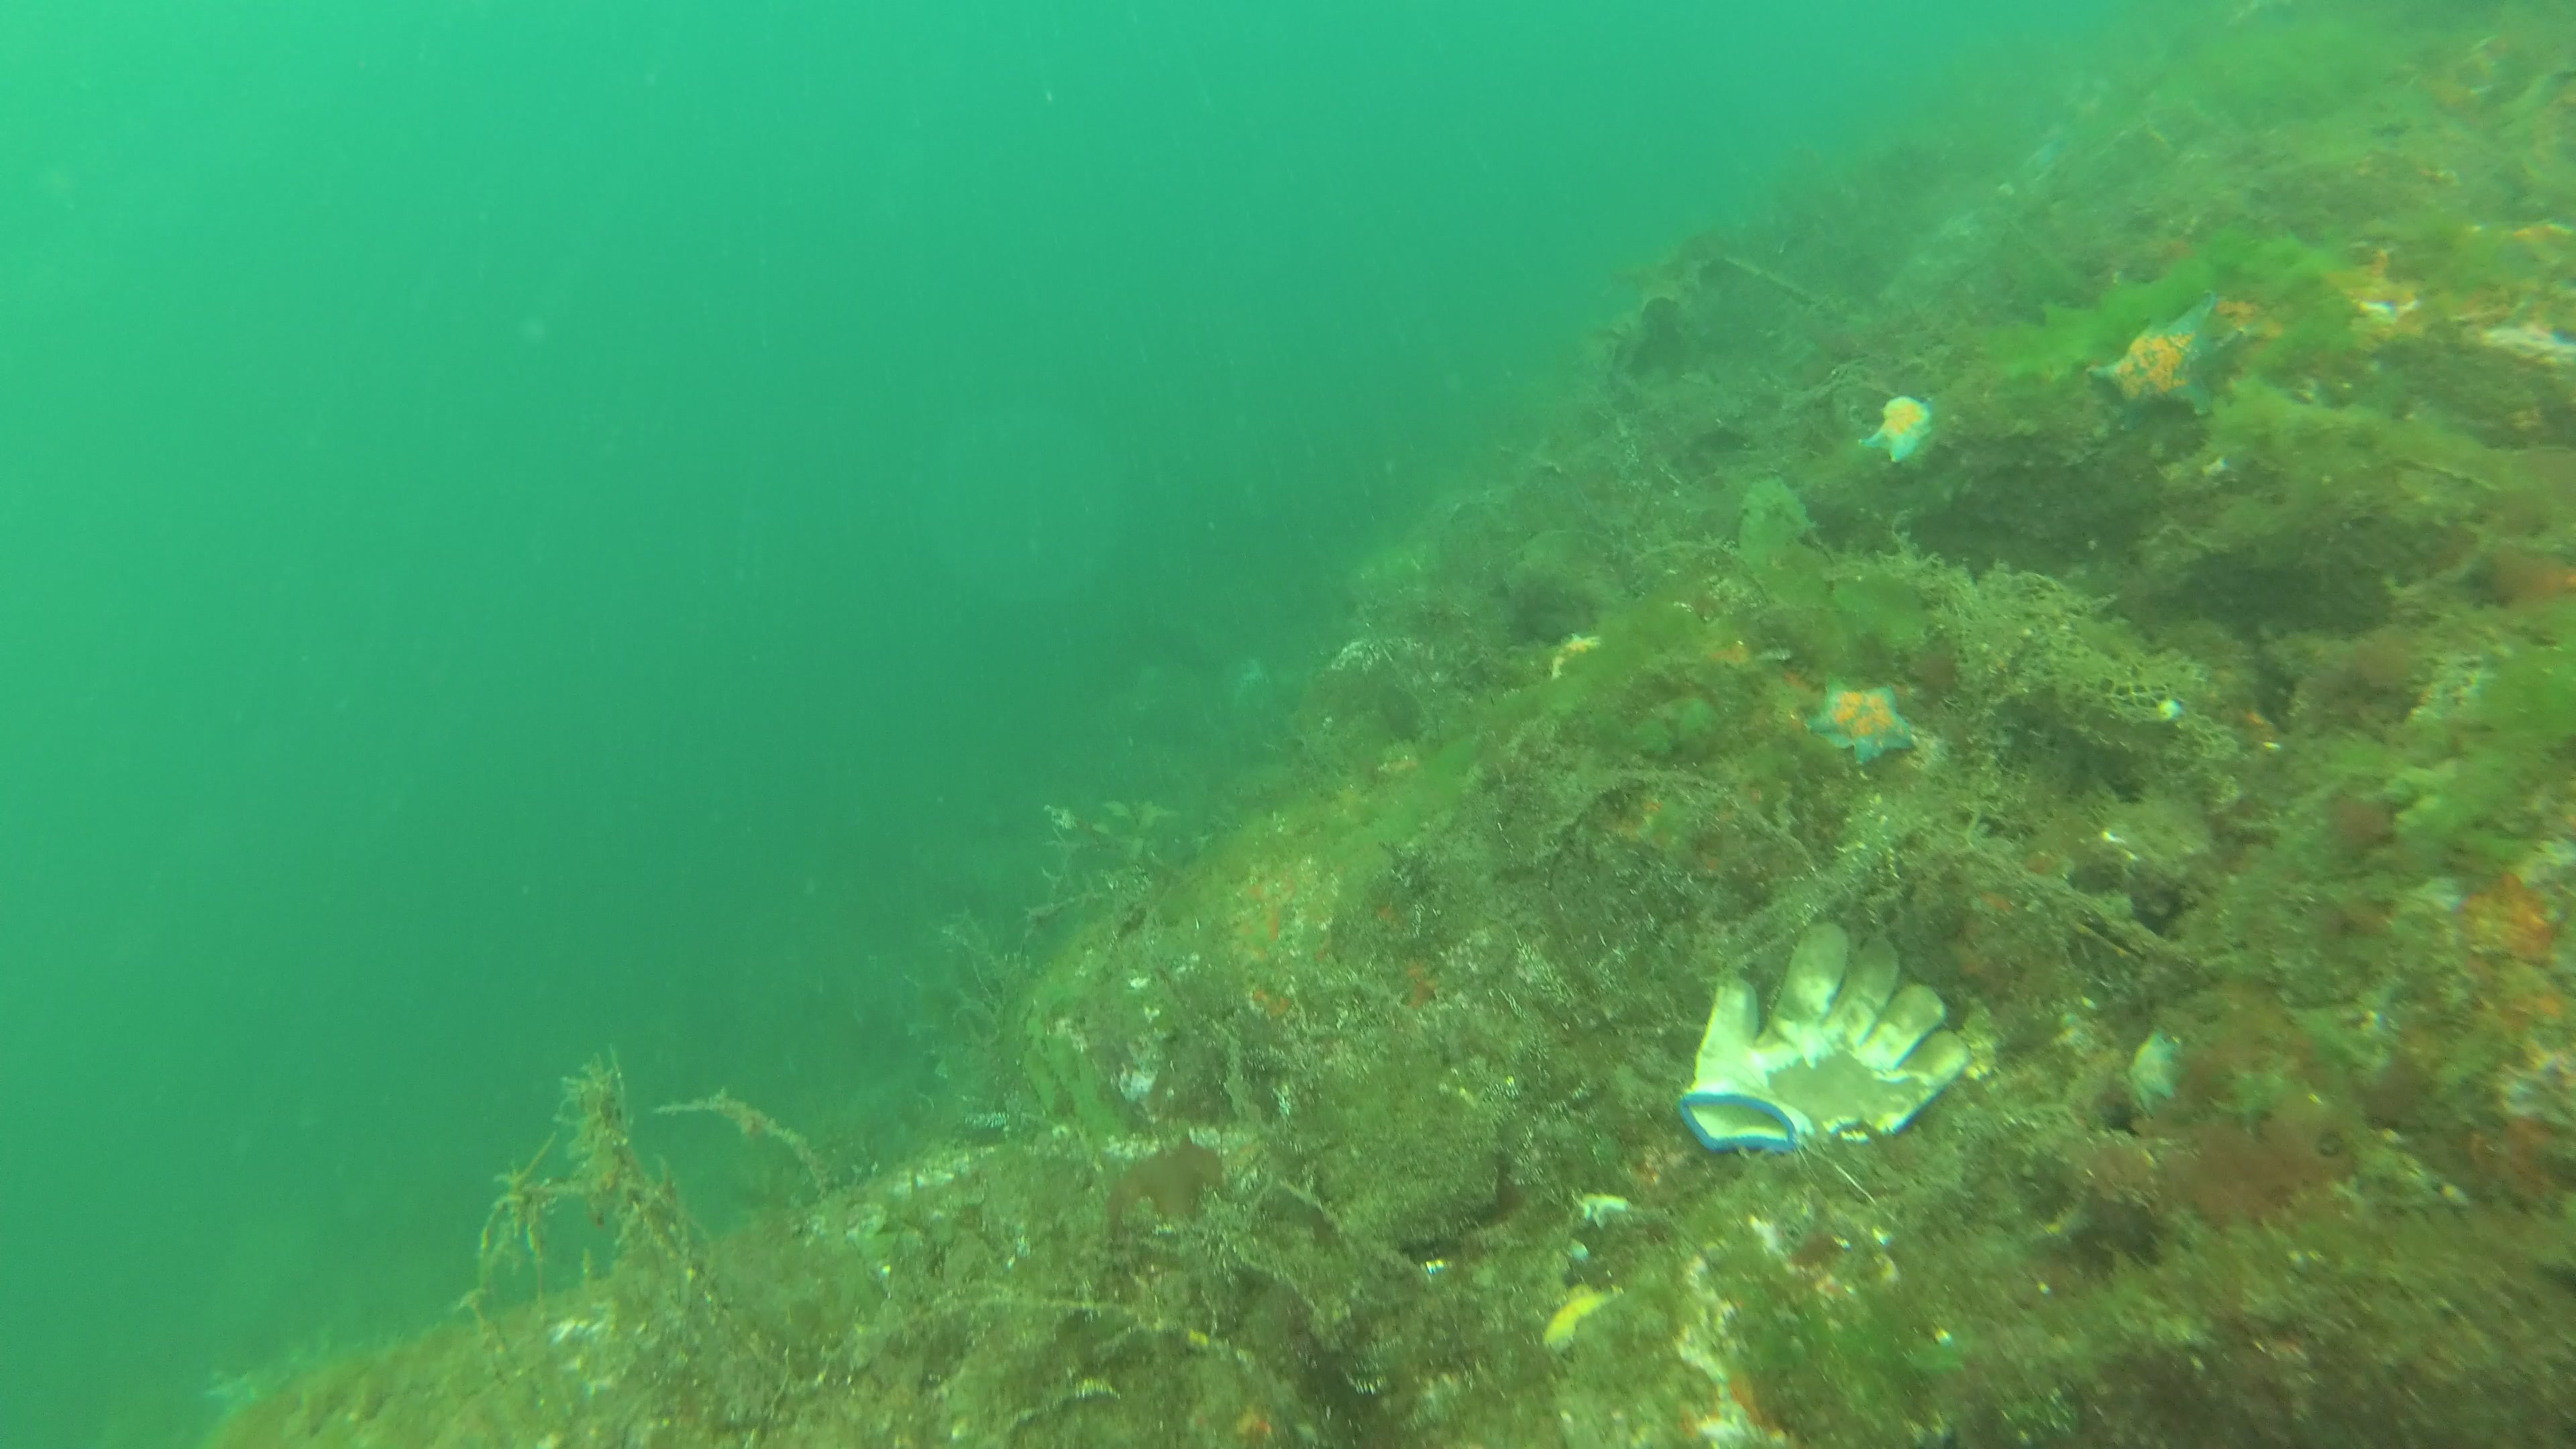starfish: (2079, 292, 2231, 432), (1801, 674, 1927, 773), (1856, 396, 1943, 469), (2123, 1026, 2185, 1116), (1553, 630, 1612, 678)
